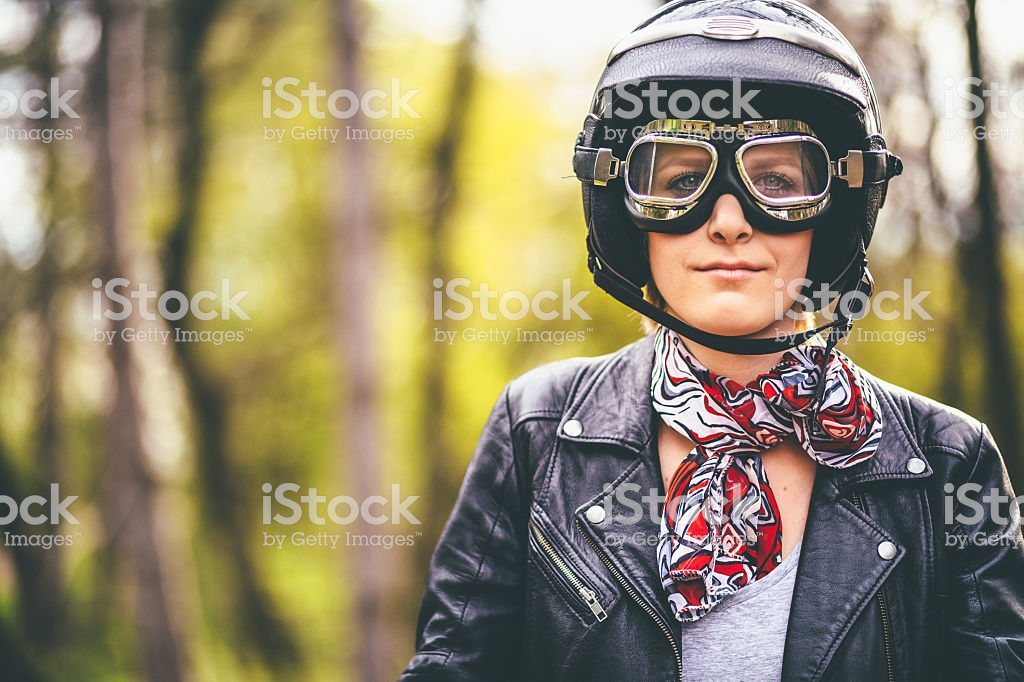helmet: (572, 11, 903, 205)
